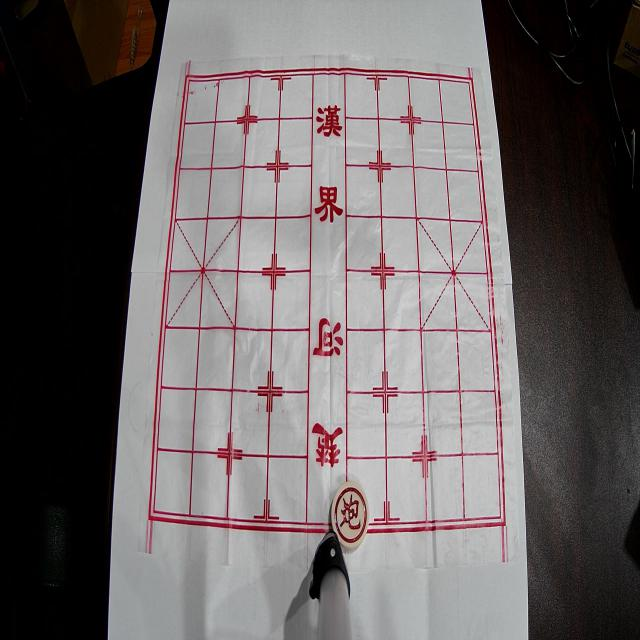red-cannon: (332, 482, 369, 549)
